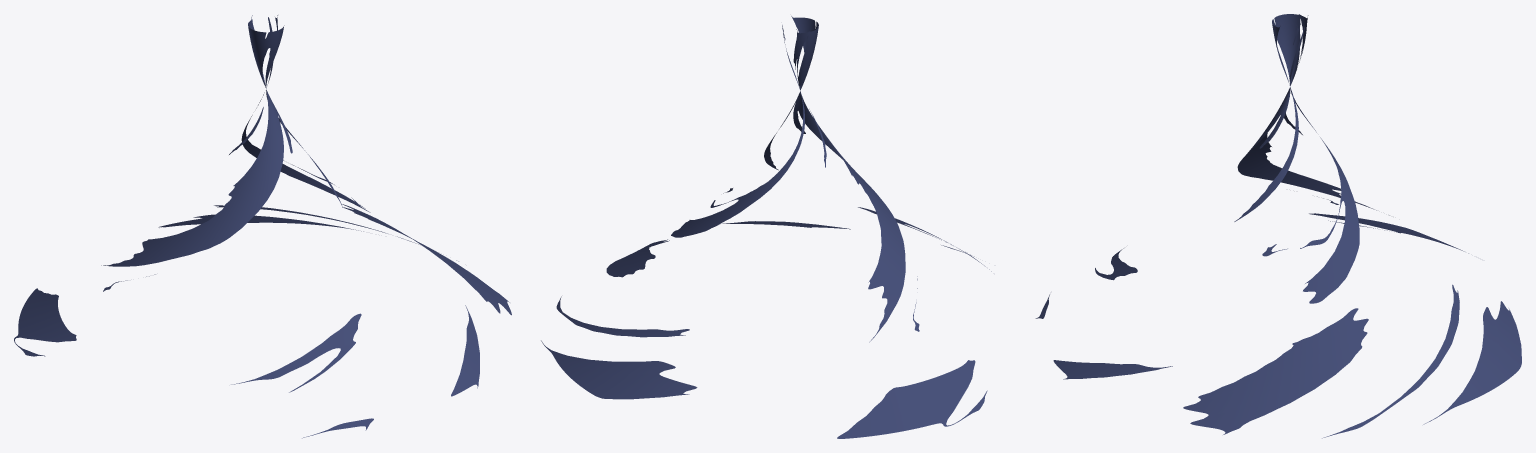
The model's file is Tornsmall.fbx.
3 views of the same model, side by side, from view 1: azimuth 30°, elevation 25°; view 2: azimuth 150°, elevation 25°; view 3: azimuth 270°, elevation 25° (orthographic).
Visible parts, largest first — view 1: Tornado1; view 2: Tornado1; view 3: Tornado1.
Boxes of the visible parts, x1,y1,x2,y2 form: Tornado1: (14, 15, 511, 438); Tornado1: (541, 16, 991, 438); Tornado1: (1035, 14, 1521, 438).
Size of the model in its own units: 7862 by 5498 by 7699.
